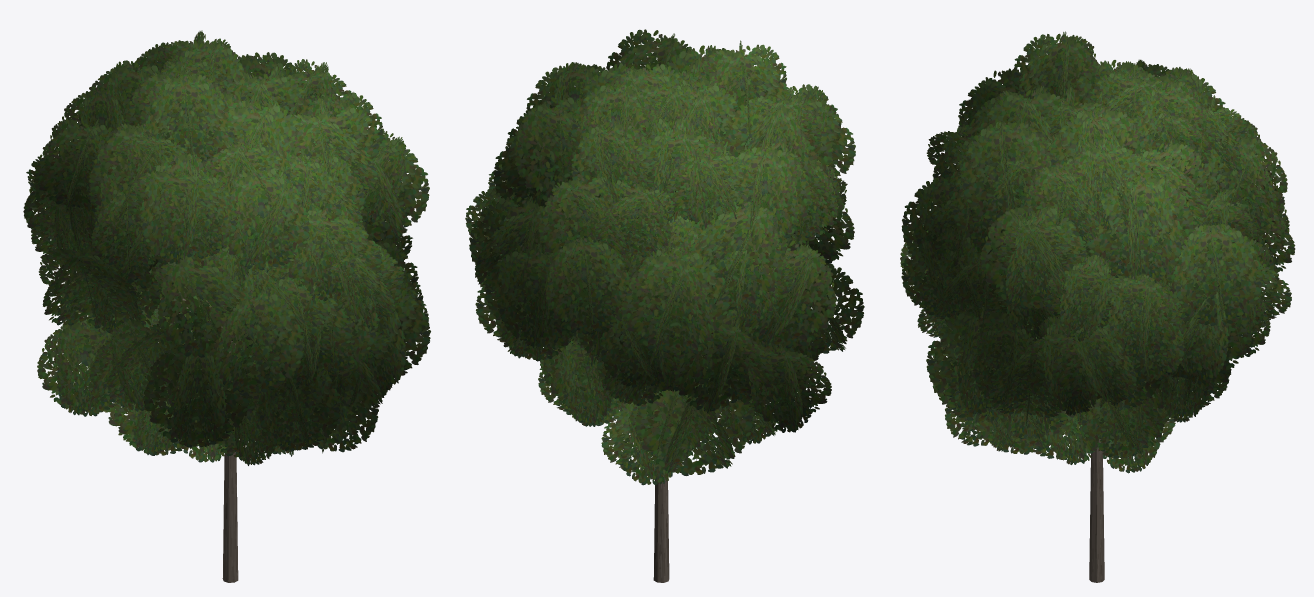
The model's file is tree_linden.glb.
The picture shows the model from 3 angles, left to right: view 1: azimuth 30°, elevation 25°; view 2: azimuth 150°, elevation 25°; view 3: azimuth 270°, elevation 25°; orthographic projection. The views are drawn at different scales.
Visible parts, largest first — view 1: tree_linden_crown, tree_linden_trunk-col; view 2: tree_linden_crown, tree_linden_trunk-col; view 3: tree_linden_crown, tree_linden_trunk-col.
Part boxes in pixels (x1=…): tree_linden_crown: x1=23, y1=30, x2=430, y2=465; tree_linden_trunk-col: x1=222, y1=343, x2=238, y2=582; tree_linden_crown: x1=465, y1=29, x2=864, y2=485; tree_linden_trunk-col: x1=653, y1=206, x2=669, y2=582; tree_linden_crown: x1=900, y1=31, x2=1295, y2=473; tree_linden_trunk-col: x1=1089, y1=429, x2=1104, y2=582.
Bounding box in the file's own units: 8.67 × 12.1 × 8.64.
Materials: 2 (2 with a texture image).
